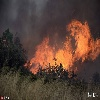fire: (25, 20, 100, 76)
